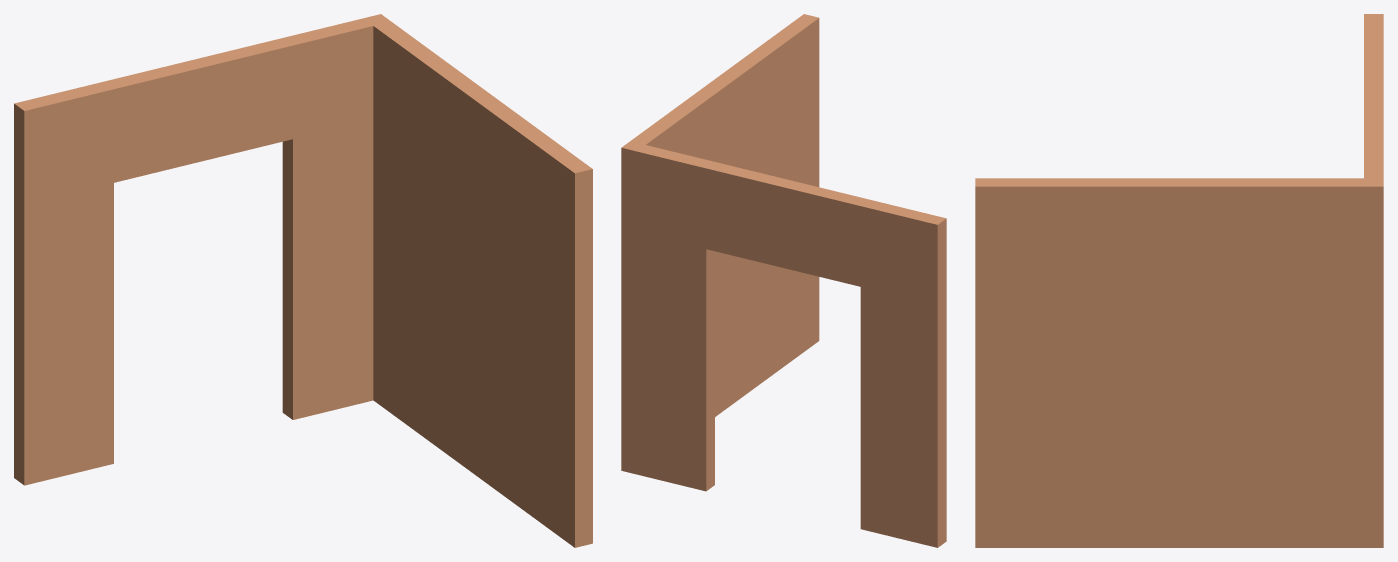
File: Wal_4_Corner_B.fbx
3 views of the same model, side by side, from view 1: azimuth 30°, elevation 25°; view 2: azimuth 150°, elevation 25°; view 3: azimuth 270°, elevation 25° (orthographic). The views are drawn at different scales.
Visible parts, largest first — view 1: polySurface26; view 2: polySurface26; view 3: polySurface26.
Part boxes in pixels (left/top/right/bottom): polySurface26: left=14, top=14, right=592, bottom=547; polySurface26: left=621, top=14, right=946, bottom=547; polySurface26: left=975, top=14, right=1383, bottom=547.
Size of the model in its own units: 4.1 by 4 by 4.1.
Materials: 1 (1 with a texture image).
